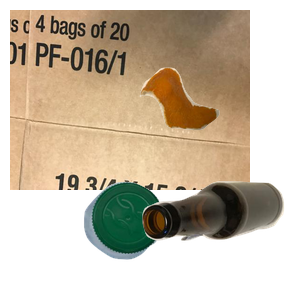cardboard: (10, 10, 250, 190)
glass: (140, 179, 300, 300)
plastic: (81, 179, 239, 300)
trash: (137, 65, 300, 188)
